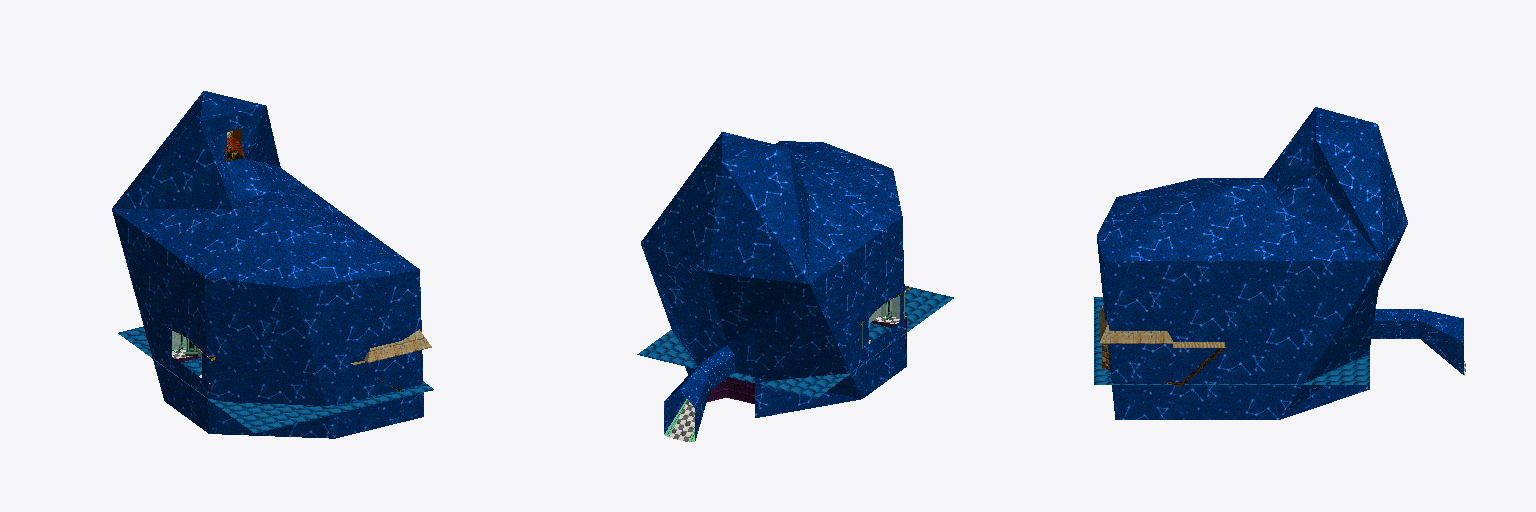
3 renders of one model, left to right at view 1: azimuth 30°, elevation 25°; view 2: azimuth 150°, elevation 25°; view 3: azimuth 270°, elevation 25°, orthographic.
Parts seen in each view (by area): view 1: mesh.006__105.006, mesh.006__122.005, mesh.006__230.005; view 2: mesh.006__105.006, mesh.006__122.005, mesh.006__94.005, mesh.006__115.006; view 3: mesh.006__105.006, mesh.006__122.005, mesh.006__230.005.
Boxes of the visible parts, <box> form: mesh.006__105.006: <box>112,91,423,438</box>; mesh.006__122.005: <box>118,326,433,433</box>; mesh.006__230.005: <box>364,329,431,362</box>; mesh.006__105.006: <box>641,132,906,440</box>; mesh.006__122.005: <box>637,286,953,398</box>; mesh.006__94.005: <box>699,317,906,403</box>; mesh.006__115.006: <box>669,315,899,441</box>; mesh.006__105.006: <box>1097,107,1463,419</box>; mesh.006__122.005: <box>1094,297,1369,384</box>; mesh.006__230.005: <box>1099,306,1172,343</box>.
Bounding box in the file's own units: 3589 × 4771 × 6159.
39 materials, 35 textured.